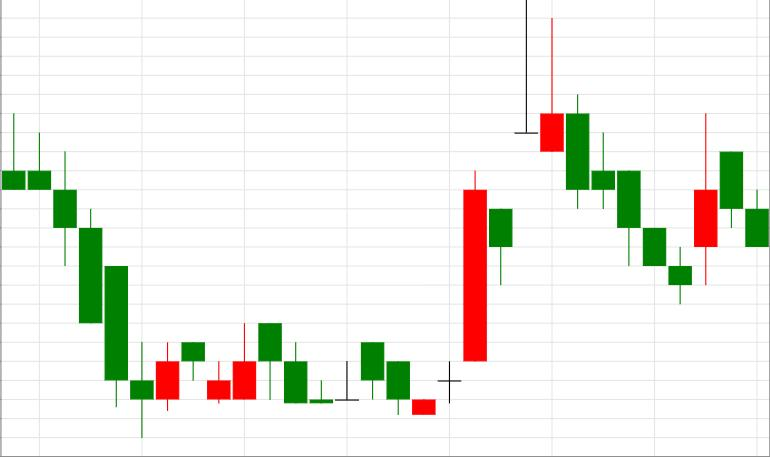shooting_star_fall: (413, 1, 564, 415)
